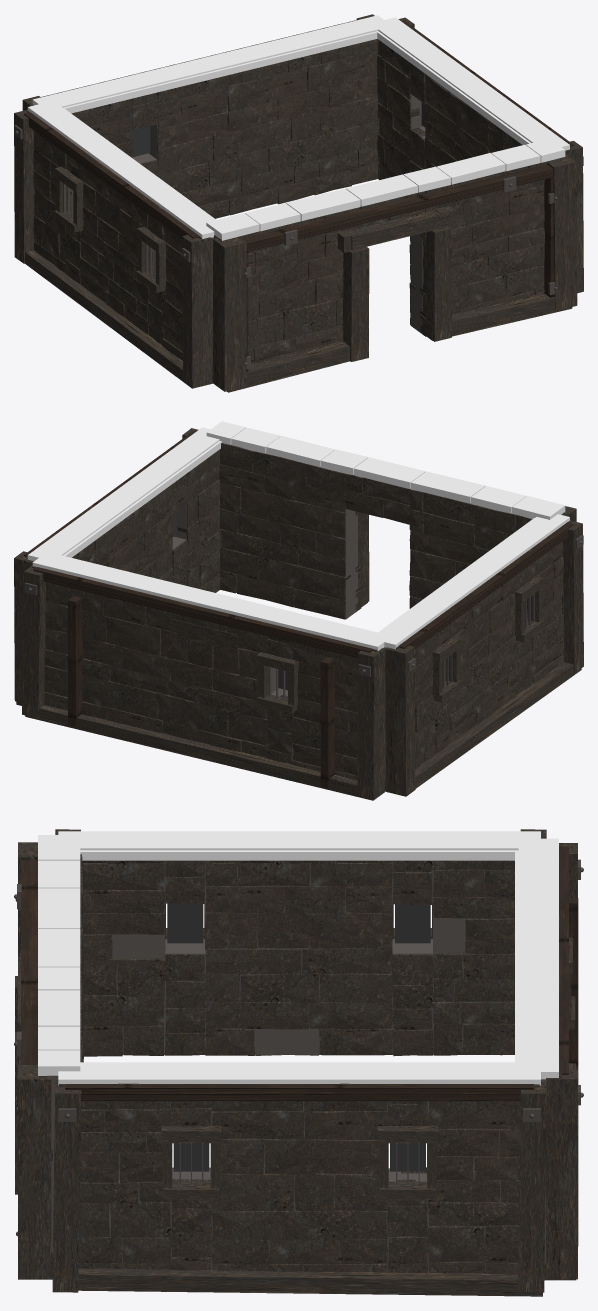
The model's file is full_workshop_preview.glb.
3 renders of one model, top to bottom at view 1: azimuth 30°, elevation 25°; view 2: azimuth 150°, elevation 25°; view 3: azimuth 270°, elevation 25°, orthographic. The views are drawn at different scales.
Parts seen in each view (by area): view 1: ASSET_REAR_REAR_roof_bedding_stone, ASSET_LoadBearingCornerPier_-1, ASSET_LEFT_LEFT_roof_bedding_stone, ASSET_RIGHT_RIGHT_roof_bedding_stone, ASSET_TimberTopBrace, ASSET_LEFT_LEFT_load_corner_1, ASSET_LoadBearingCornerPier_1, ASSET_LEFT_LEFT_continuous_plinth, ASSET_LoadBearingDoorPier_1, ASSET_LoadBearingDoorPier_-1, ASSET_LEFT_LEFT_load_corner_-1, ASSET_LEFT_LEFT_wall_plate (+87 smaller); view 2: ASSET_REAR_REAR_roof_bedding_stone, ASSET_REAR_REAR_continuous_plinth, ASSET_LEFT_LEFT_roof_bedding_stone, ASSET_RIGHT_RIGHT_roof_bedding_stone, ASSET_REAR_REAR_wall_plate, ASSET_LEFT_LEFT_load_corner_-1, ASSET_REAR_REAR_load_corner_1, ASSET_LEFT_LEFT_continuous_plinth, ASSET_REAR_REAR_load_corner_-1, ASSET_LEFT_LEFT_load_corner_1, ASSET_LEFT_LEFT_wall_plate, ASSET_REAR_REAR_oak_utility_pier_1 (+101 smaller); view 3: ASSET_RIGHT_RIGHT_roof_bedding_stone, ASSET_RIGHT_RIGHT_continuous_plinth, ASSET_REAR_REAR_roof_bedding_stone, ASSET_LEFT_LEFT_roof_bedding_stone, ASSET_RIGHT_RIGHT_wall_plate, ASSET_LoadBearingCornerPier_1, ASSET_REAR_REAR_load_corner_-1, ASSET_RIGHT_RIGHT_load_corner_-1, ASSET_RIGHT_RIGHT_load_corner_1, ASSET_LEFT_LEFT_interior_coping_return, ASSET_TimberTopBrace, ASSET_LEFT_LEFT_solid_2_InteriorPBR_4_0 (+117 smaller).
Part boxes in pixels (x1=…): ASSET_REAR_REAR_roof_bedding_stone: x1=32, y1=15, x2=388, y2=109; ASSET_LoadBearingCornerPier_-1: x1=212, y1=237, x2=246, y2=391; ASSET_LEFT_LEFT_roof_bedding_stone: x1=27, y1=104, x2=215, y2=238; ASSET_RIGHT_RIGHT_roof_bedding_stone: x1=370, y1=17, x2=569, y2=150; ASSET_TimberTopBrace: x1=242, y1=164, x2=553, y2=251; ASSET_LEFT_LEFT_load_corner_1: x1=182, y1=235, x2=212, y2=386; ASSET_LoadBearingCornerPier_1: x1=547, y1=154, x2=577, y2=311; ASSET_LEFT_LEFT_continuous_plinth: x1=25, y1=250, x2=212, y2=388; ASSET_LoadBearingDoorPier_1: x1=423, y1=227, x2=452, y2=341; ASSET_LoadBearingDoorPier_-1: x1=342, y1=247, x2=369, y2=361; ASSET_LEFT_LEFT_load_corner_-1: x1=14, y1=110, x2=34, y2=263; ASSET_LEFT_LEFT_wall_plate: x1=24, y1=112, x2=199, y2=238; ASSET_REAR_REAR_roof_bedding_stone: x1=32, y1=552, x2=391, y2=651; ASSET_REAR_REAR_continuous_plinth: x1=25, y1=705, x2=385, y2=800; ASSET_LEFT_LEFT_roof_bedding_stone: x1=371, y1=514, x2=569, y2=649; ASSET_RIGHT_RIGHT_roof_bedding_stone: x1=27, y1=427, x2=219, y2=561; ASSET_REAR_REAR_wall_plate: x1=33, y1=567, x2=372, y2=657; ASSET_LEFT_LEFT_load_corner_-1: x1=385, y1=645, x2=415, y2=796; ASSET_REAR_REAR_load_corner_1: x1=357, y1=648, x2=385, y2=800; ASSET_LEFT_LEFT_continuous_plinth: x1=385, y1=662, x2=581, y2=791; ASSET_REAR_REAR_load_corner_-1: x1=22, y1=565, x2=45, y2=718; ASSET_LEFT_LEFT_load_corner_1: x1=563, y1=520, x2=583, y2=673; ASSET_LEFT_LEFT_wall_plate: x1=398, y1=522, x2=573, y2=649; ASSET_REAR_REAR_oak_utility_pier_1: x1=320, y1=657, x2=334, y2=788; ASSET_RIGHT_RIGHT_roof_bedding_stone: x1=58, y1=1062, x2=540, y2=1085; ASSET_RIGHT_RIGHT_continuous_plinth: x1=78, y1=1266, x2=542, y2=1296; ASSET_REAR_REAR_roof_bedding_stone: x1=518, y1=838, x2=558, y2=1079; ASSET_LEFT_LEFT_roof_bedding_stone: x1=58, y1=831, x2=540, y2=850; ASSET_RIGHT_RIGHT_wall_plate: x1=65, y1=1084, x2=533, y2=1101; ASSET_LoadBearingCornerPier_1: x1=18, y1=1065, x2=51, y2=1279; ASSET_REAR_REAR_load_corner_-1: x1=546, y1=1068, x2=577, y2=1279; ASSET_RIGHT_RIGHT_load_corner_-1: x1=52, y1=1080, x2=81, y2=1292; ASSET_RIGHT_RIGHT_load_corner_1: x1=518, y1=1080, x2=546, y2=1292; ASSET_LEFT_LEFT_interior_coping_return: x1=80, y1=850, x2=518, y2=860; ASSET_TimberTopBrace: x1=21, y1=860, x2=37, y2=1064; ASSET_LEFT_LEFT_solid_2_InteriorPBR_4_0: x1=309, y1=911, x2=392, y2=949.
Bounding box in the file's own units: 9.13 × 3.4 × 8.16.
8 materials, 4 textured.
